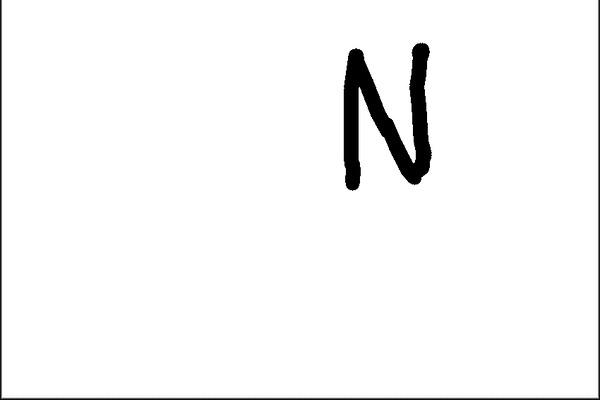N: (334, 38, 439, 192)
